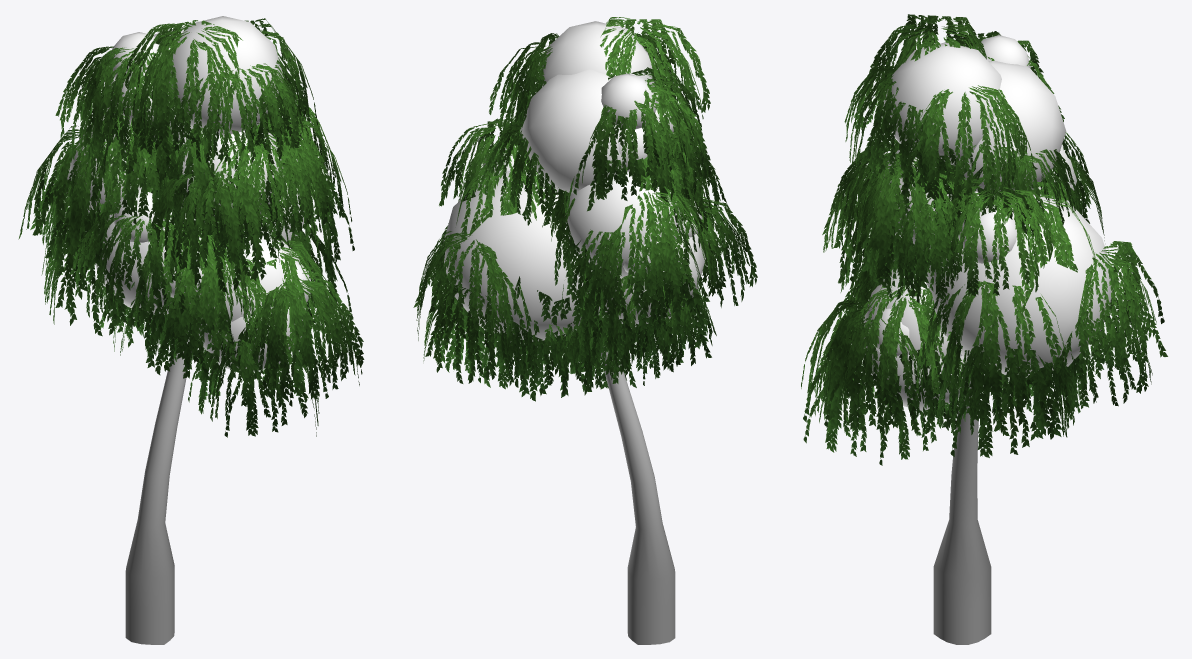
The picture shows the model from 3 angles, left to right: view 1: azimuth 30°, elevation 25°; view 2: azimuth 150°, elevation 25°; view 3: azimuth 270°, elevation 25°; orthographic projection. The views are drawn at different scales.
Visible parts, largest first — view 1: bj_1_s8012_leaves_LOD0, bj_1_s8012_shadow_LOD0, bj_1_s8012_trunk_LOD0; view 2: bj_1_s8012_leaves_LOD0, bj_1_s8012_shadow_LOD0, bj_1_s8012_trunk_LOD0; view 3: bj_1_s8012_leaves_LOD0, bj_1_s8012_shadow_LOD0, bj_1_s8012_trunk_LOD0.
Boxes of the visible parts, x1=… form: bj_1_s8012_leaves_LOD0: x1=18, y1=18, x2=364, y2=437; bj_1_s8012_shadow_LOD0: x1=67, y1=16, x2=311, y2=371; bj_1_s8012_trunk_LOD0: x1=125, y1=331, x2=191, y2=644; bj_1_s8012_leaves_LOD0: x1=413, y1=17, x2=757, y2=401; bj_1_s8012_shadow_LOD0: x1=443, y1=21, x2=705, y2=341; bj_1_s8012_trunk_LOD0: x1=601, y1=346, x2=675, y2=644; bj_1_s8012_leaves_LOD0: x1=801, y1=14, x2=1167, y2=465; bj_1_s8012_shadow_LOD0: x1=863, y1=35, x2=1113, y2=410; bj_1_s8012_trunk_LOD0: x1=933, y1=387, x2=991, y2=644.
Size of what is drawn, in the model's own units: 5.92 by 11.07 by 6.12.
